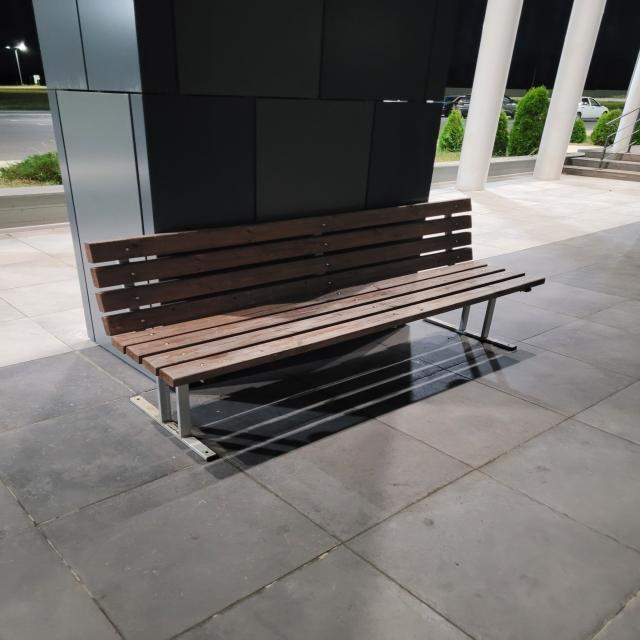Bench: (85, 197, 545, 461)
